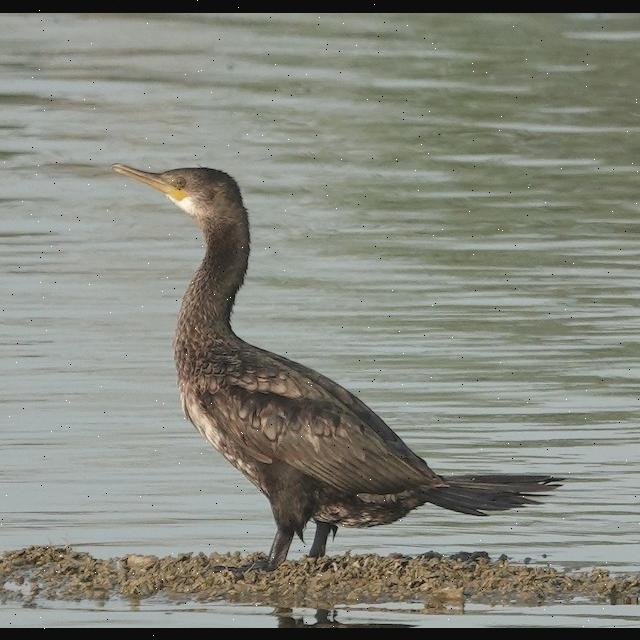cormorant: (80, 148, 572, 580)
